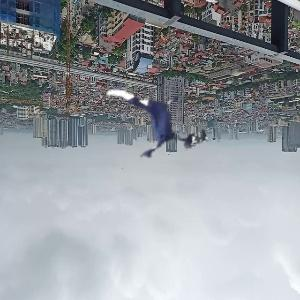drone: (103, 75, 195, 167)
